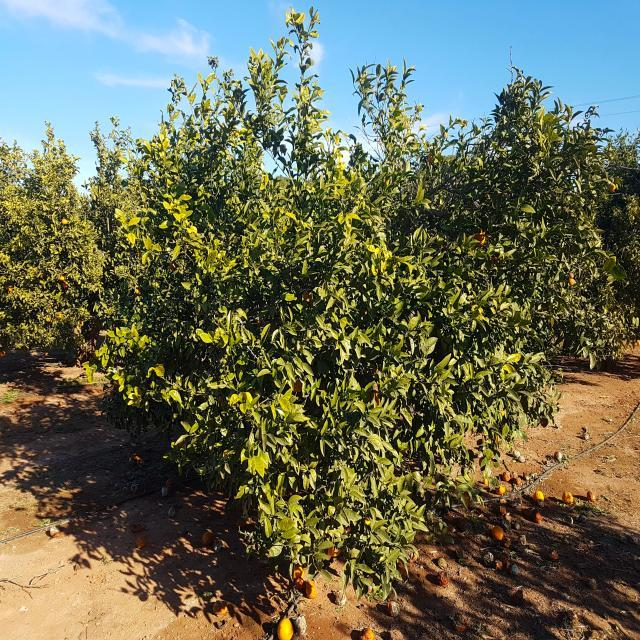Jeruk Belum Matang: (277, 619, 294, 640)
Jeruk Sudah Matang: (476, 231, 488, 243), (494, 526, 506, 538), (292, 379, 302, 392), (570, 274, 578, 282), (134, 454, 142, 462), (610, 183, 616, 191), (427, 156, 433, 163), (78, 321, 84, 327), (0, 350, 6, 356), (63, 281, 68, 288), (62, 219, 68, 224), (56, 313, 62, 318), (46, 316, 51, 322), (7, 286, 12, 292), (136, 288, 140, 294), (60, 276, 65, 280)
